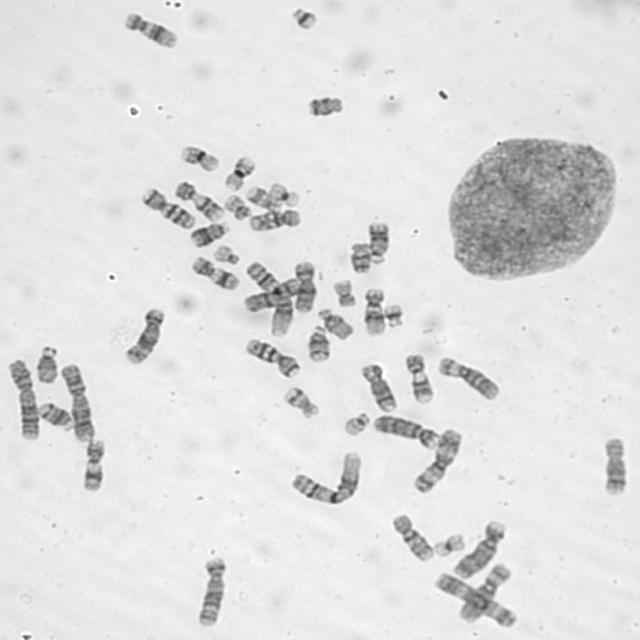A1: (287, 448, 363, 506), (242, 258, 295, 338)
A2: (58, 360, 96, 444), (4, 357, 40, 442)
A3: (430, 568, 518, 630), (411, 426, 465, 494)
B4: (450, 517, 508, 580), (369, 411, 443, 450)
B5: (122, 305, 167, 366), (192, 553, 228, 629)
C10: (388, 510, 436, 564), (245, 207, 302, 232)
C11: (187, 253, 239, 292), (78, 437, 108, 492)
C12: (121, 8, 180, 48), (360, 286, 388, 337)
C6: (454, 562, 514, 625), (435, 353, 501, 401)
C7: (242, 336, 302, 379), (137, 186, 195, 230)
C8: (356, 362, 398, 414), (599, 433, 629, 498)
C9: (171, 177, 228, 222), (402, 352, 435, 404)
D13: (186, 217, 232, 248), (365, 219, 391, 265)
D14: (33, 399, 75, 432), (303, 322, 333, 364)
D15: (316, 305, 356, 341), (33, 343, 60, 384)
E16: (219, 152, 258, 194), (177, 142, 220, 173)
E17: (281, 384, 321, 420), (243, 183, 283, 213)
E18: (304, 92, 346, 118), (346, 240, 373, 274)
F19: (431, 530, 466, 559), (266, 179, 302, 207)
F20: (221, 190, 253, 220), (331, 277, 357, 308)
G21: (288, 3, 320, 31), (381, 300, 406, 328)
G22: (340, 410, 371, 438), (211, 242, 241, 266)
X: (241, 275, 301, 313), (290, 258, 318, 313)
